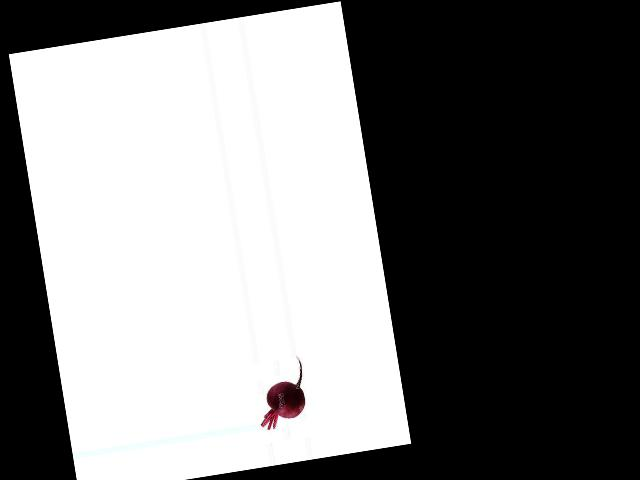beet: (251, 355, 310, 430)
